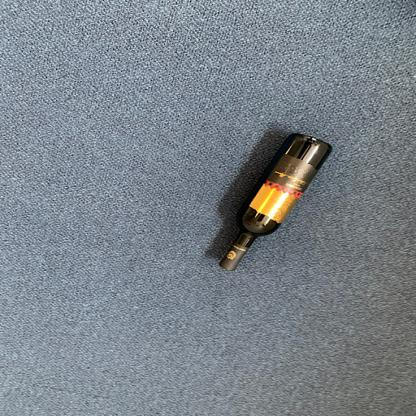trash: (217, 132, 334, 275)
